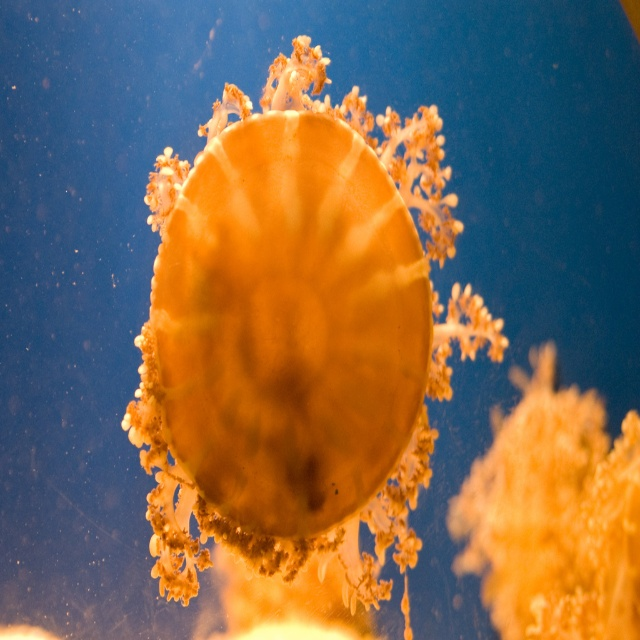Jellyfish: (119, 34, 507, 618), (442, 323, 636, 620)
